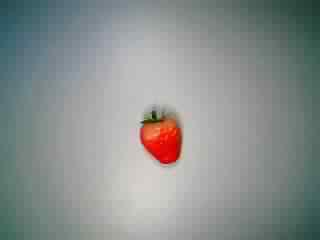strawberry: (122, 105, 190, 169)
